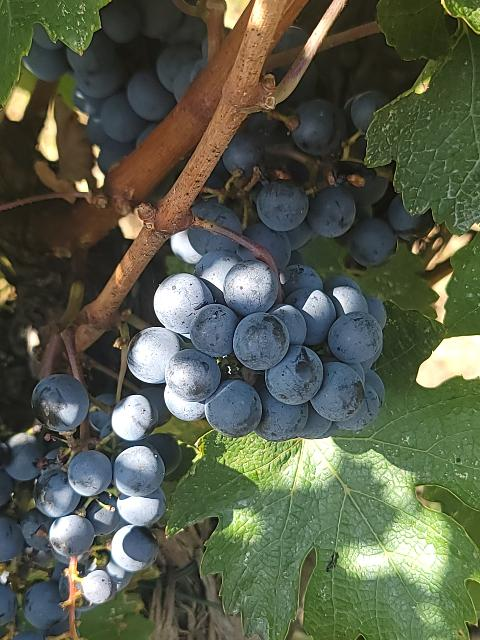grapes: (0, 374, 181, 640), (135, 251, 386, 441)
